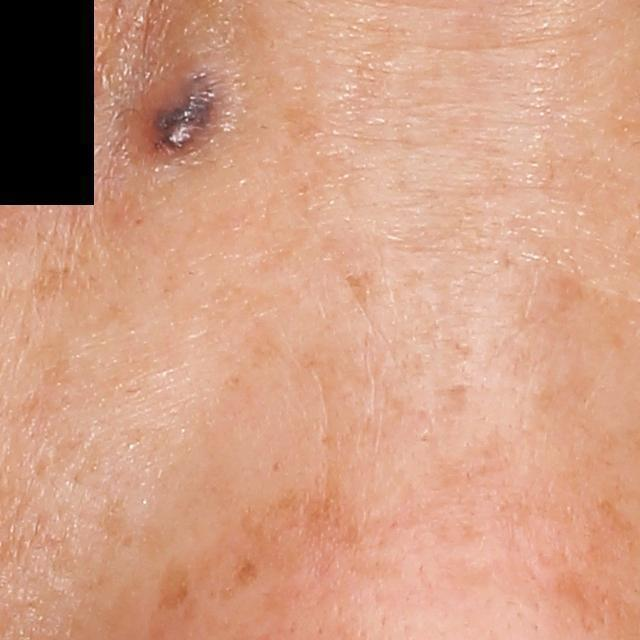melasma: (233, 480, 382, 575), (276, 79, 330, 153), (20, 261, 108, 304), (152, 554, 202, 621), (221, 558, 266, 594), (343, 268, 373, 312)
nevus: (142, 65, 232, 167)
